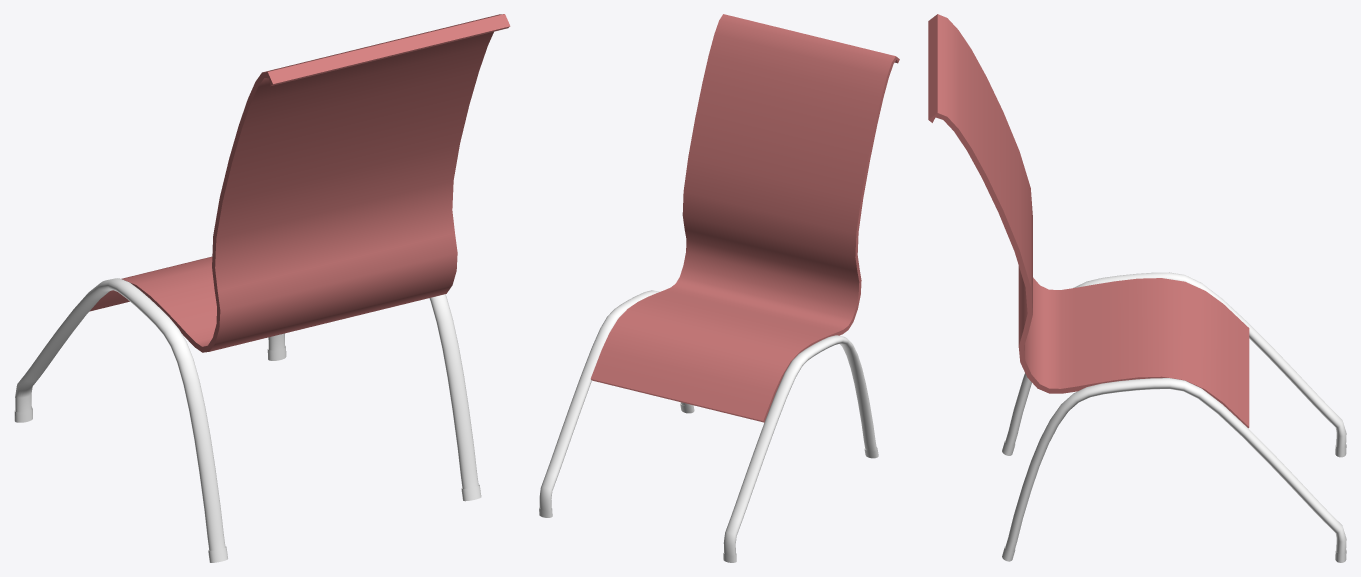
Rendered from obj_chair_600e1e.glb.
3 renders of one model, left to right at view 1: azimuth 30°, elevation 25°; view 2: azimuth 150°, elevation 25°; view 3: azimuth 270°, elevation 25°, orthographic. The views are drawn at different scales.
Visible parts, largest first — view 1: obj_chair_600e1e; view 2: obj_chair_600e1e; view 3: obj_chair_600e1e.
Part boxes in pixels (box(x1,y1,x2,y2)): obj_chair_600e1e: box(14, 14, 510, 562); obj_chair_600e1e: box(539, 14, 899, 562); obj_chair_600e1e: box(928, 14, 1346, 562).
Size of the model in its own units: 0.4638 by 0.85 by 0.7266.
